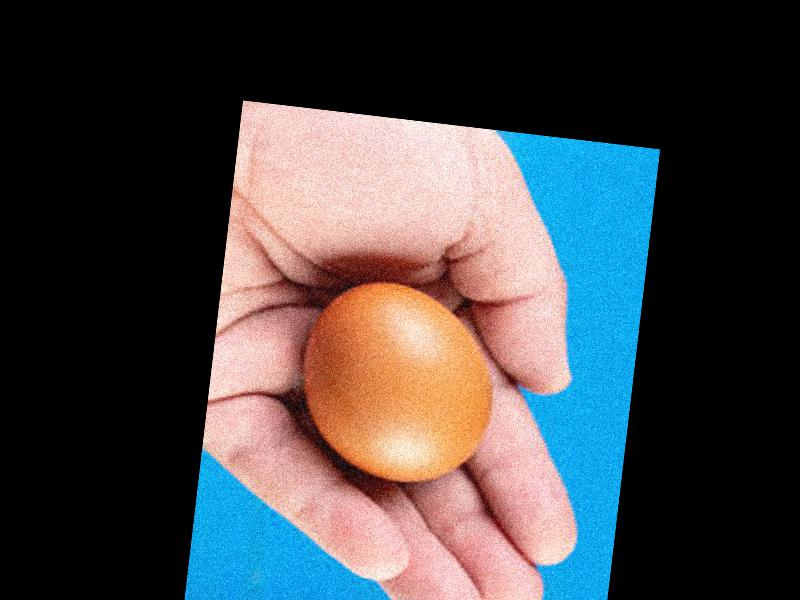Eggs: (296, 275, 503, 493)
